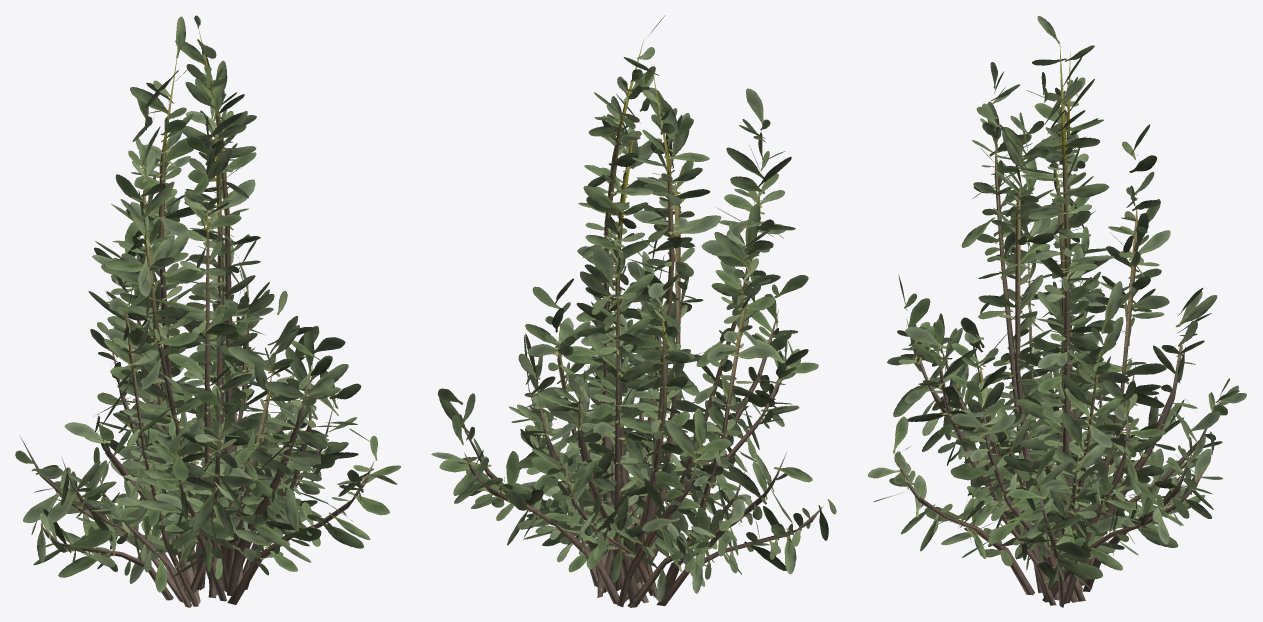
Rendered from ph_succulent_2.glb.
3 views of the same model, side by side, from view 1: azimuth 30°, elevation 25°; view 2: azimuth 150°, elevation 25°; view 3: azimuth 270°, elevation 25° (orthographic). The views are drawn at different scales.
Visible parts, largest first — view 1: ph_succulent_2_lod1; view 2: ph_succulent_2_lod1; view 3: ph_succulent_2_lod1.
Boxes of the visible parts, x1=… form: ph_succulent_2_lod1: x1=15, y1=15, x2=400, y2=607; ph_succulent_2_lod1: x1=431, y1=15, x2=836, y2=607; ph_succulent_2_lod1: x1=867, y1=16, x2=1246, y2=607.
Bounding box in the file's own units: 1.01 × 1.72 × 1.05.
2 materials, 2 textured.
